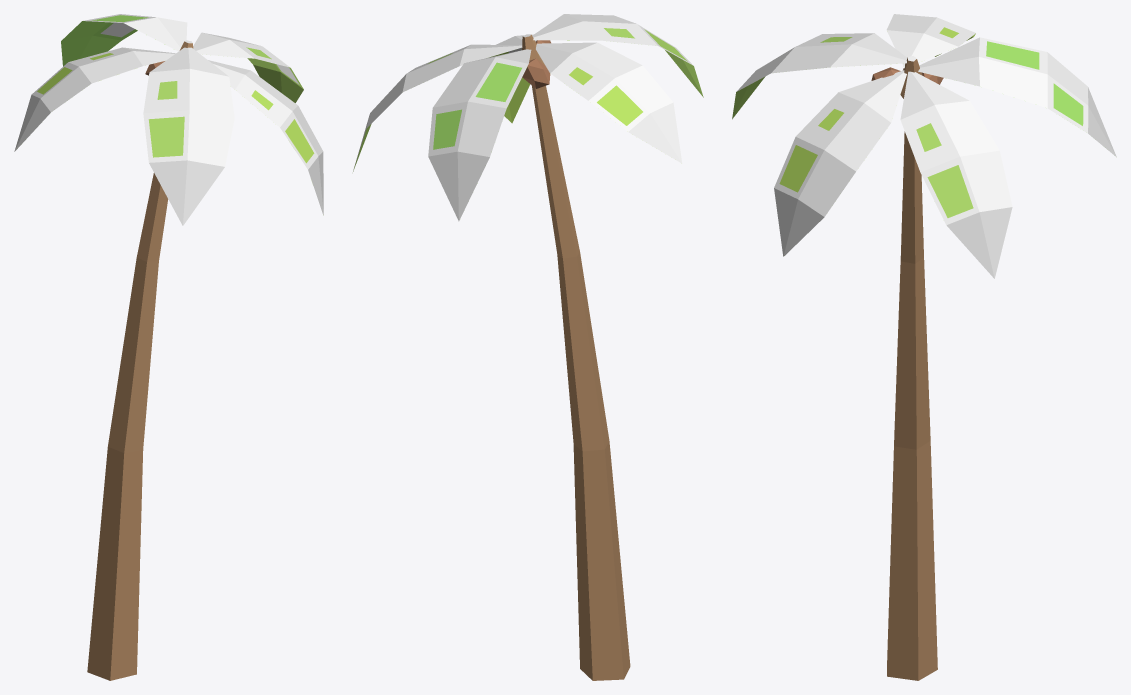
File: Palm_Tree_Coconut_s_Snow_02_LOD.fbx
3 renders of one model, left to right at view 1: azimuth 30°, elevation 25°; view 2: azimuth 150°, elevation 25°; view 3: azimuth 270°, elevation 25°, orthographic. The views are drawn at different scales.
Parts seen in each view (by area): view 1: Palm_Tree_Coconut_s_Snow_02_LOD0; view 2: Palm_Tree_Coconut_s_Snow_02_LOD0; view 3: Palm_Tree_Coconut_s_Snow_02_LOD0.
Boxes of the visible parts, <box> form: Palm_Tree_Coconut_s_Snow_02_LOD0: <box>14,14,323,680</box>; Palm_Tree_Coconut_s_Snow_02_LOD0: <box>353,14,703,680</box>; Palm_Tree_Coconut_s_Snow_02_LOD0: <box>732,14,1116,680</box>.
Size of what is drawn, in the model's own units: 243 by 478 by 255.
